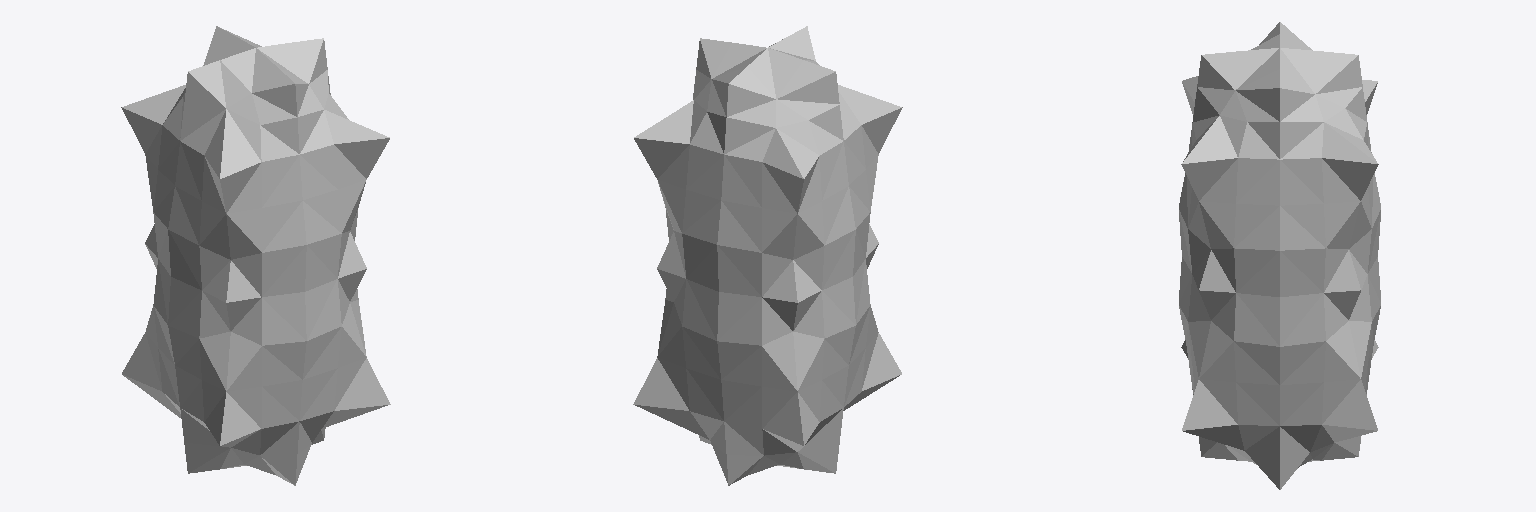
The model's file is MedimPlasmaTankLOD0.obj.
3 views of the same model, side by side, from view 1: azimuth 30°, elevation 25°; view 2: azimuth 150°, elevation 25°; view 3: azimuth 270°, elevation 25° (orthographic).
Visible parts, largest first — view 1: Cube_Cube.001; view 2: Cube_Cube.001; view 3: Cube_Cube.001.
Part boxes in pixels (bbox=[...]): Cube_Cube.001: bbox=[121, 26, 390, 485]; Cube_Cube.001: bbox=[633, 26, 902, 485]; Cube_Cube.001: bbox=[1179, 22, 1380, 489].
Size of the model in its own units: 1.06 by 2.39 by 1.06.